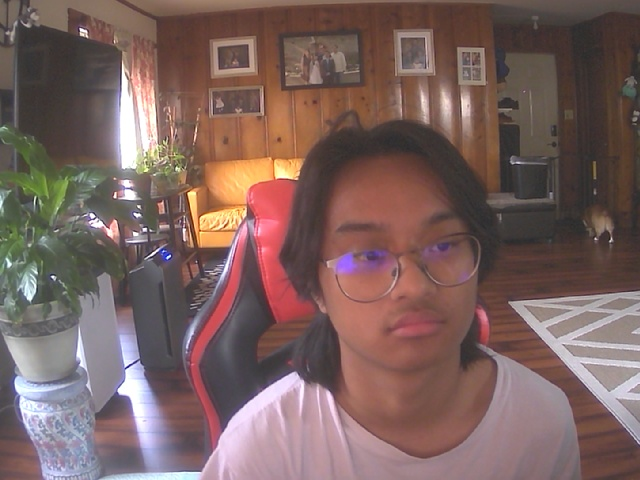neutral: (305, 134, 491, 379)
